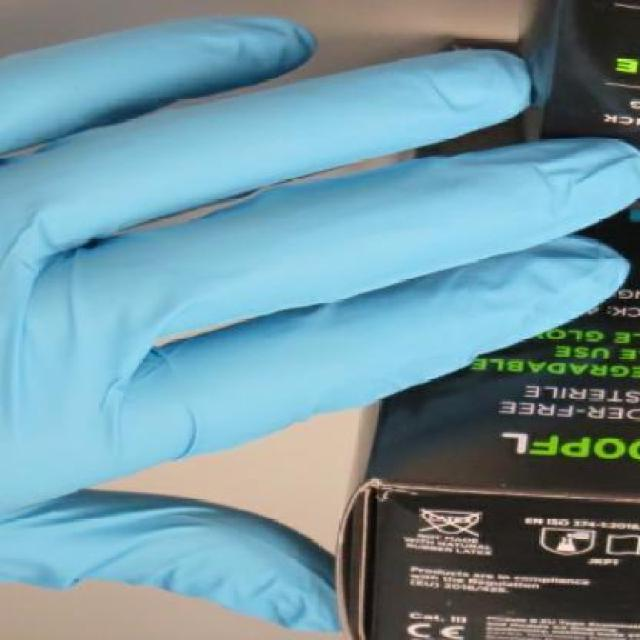gloved_hand: (2, 9, 640, 630)
